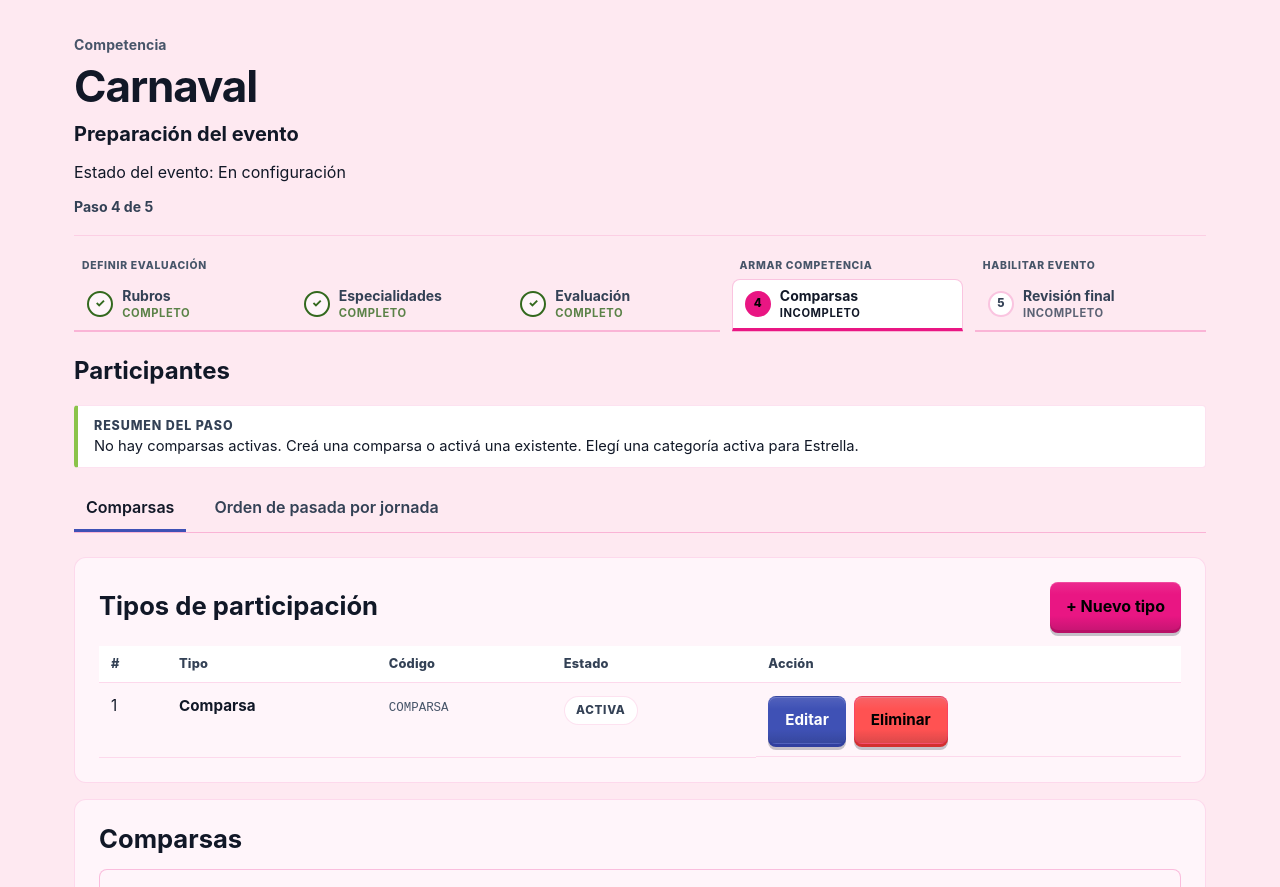
Scenario: AdminCompetenciaPage › clasifica los pasos con los checks oficiales y limita la revisión a bloqueos readiness
expect the text "Incompleto" is shown 2 times: met, box [780,307,860,320]; [1023,307,1115,320]
Click the button "5 Revisión final Incompleto".
click(1090, 305)  # box [975,279,1206,331]
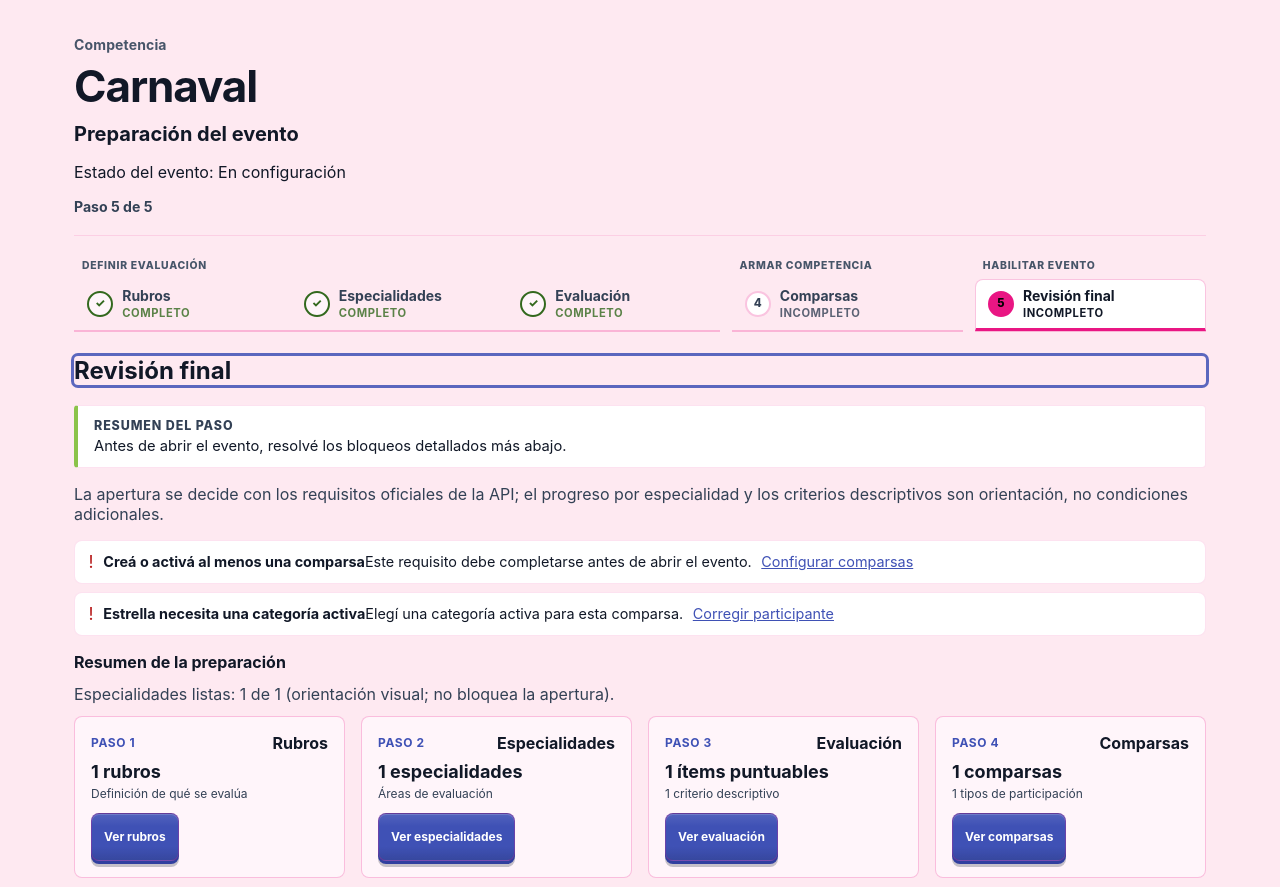
expect the text "Estrella necesita una categoría activa" is shown: met, box [103,605,365,622]
expect the list named "Requisitos pendientes para abrir el evento" is shown: met, box [74,540,1206,636]
